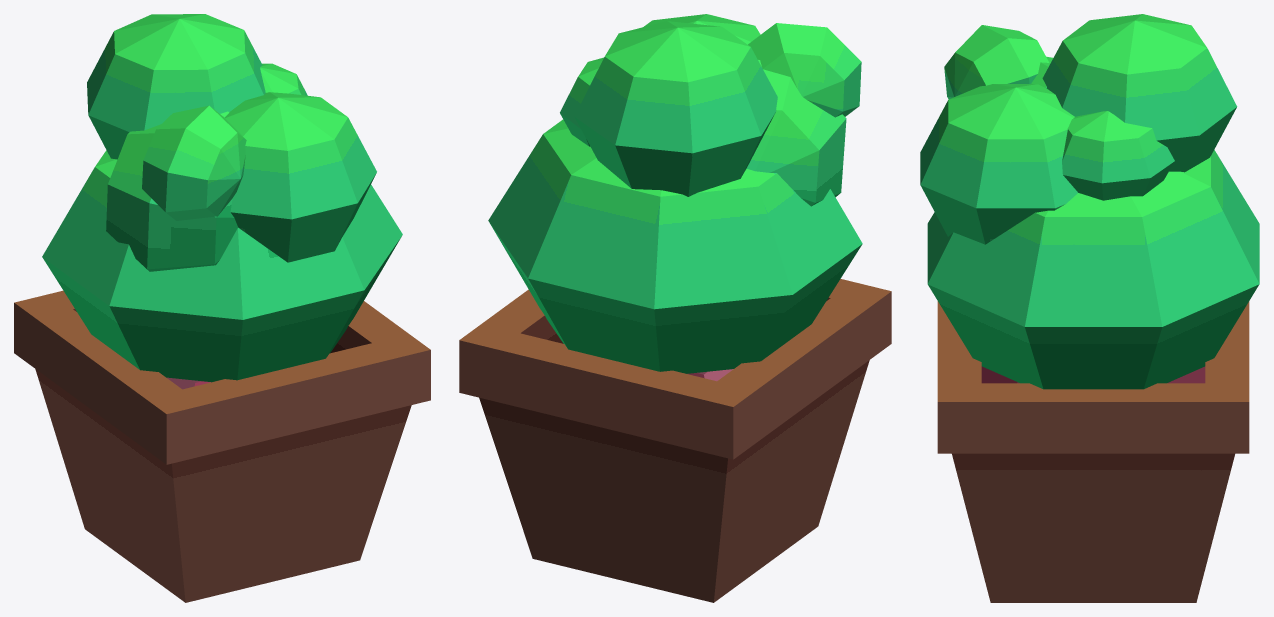
File: plant_pot.gltf
The picture shows the model from 3 angles, left to right: view 1: azimuth 30°, elevation 25°; view 2: azimuth 150°, elevation 25°; view 3: azimuth 270°, elevation 25°; orthographic projection. The views are drawn at different scales.
Parts seen in each view (by area): view 1: vaso; view 2: vaso; view 3: vaso.
Part boxes in pixels (box(x1,y1,x2,y2)): vaso: box(14, 14, 430, 602); vaso: box(459, 14, 891, 602); vaso: box(920, 14, 1259, 602).
Bounding box in the file's own units: 0.8344 × 1.4 × 0.8172.
2 materials, 2 textured.
